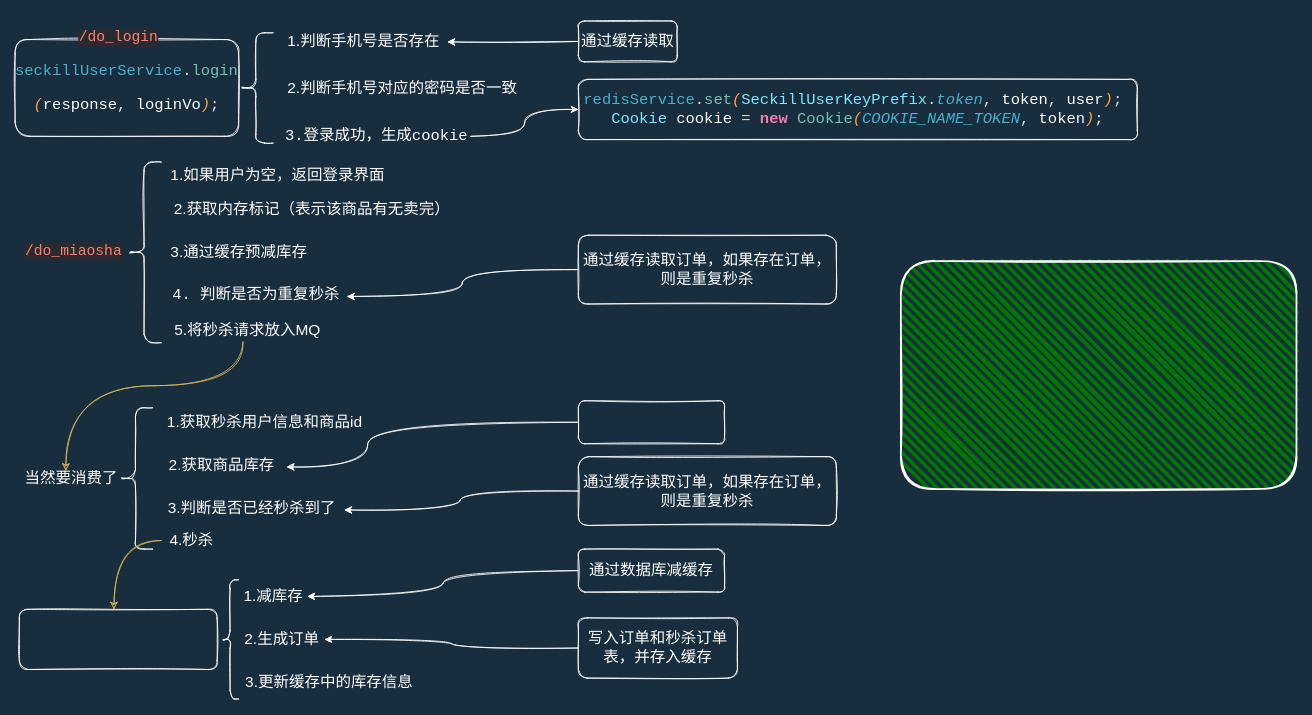
This 1312x715 diagram has some shape labels left out. Each missing label, with the centre of its shape:
"seckillService . seckill ( user , goods ) ;" goes at [117,639].
"通过数据库获取" goes at [651,422].
"重点功能实现记录" goes at [1098,374].
